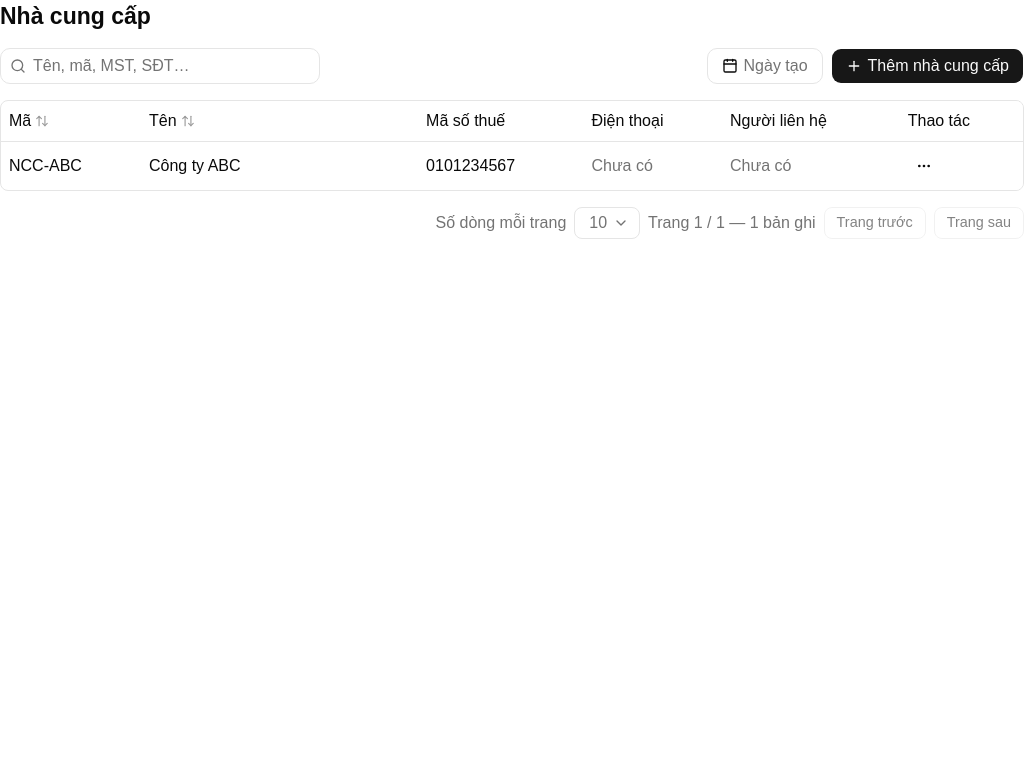
Test: SuppliersPage › bấm Thêm mở sheet; bấm Xoá mở hộp xoá
Click the button "Thêm nhà cung cấp" at (927, 66), box top-left (831, 48), bottom-right (1023, 84)
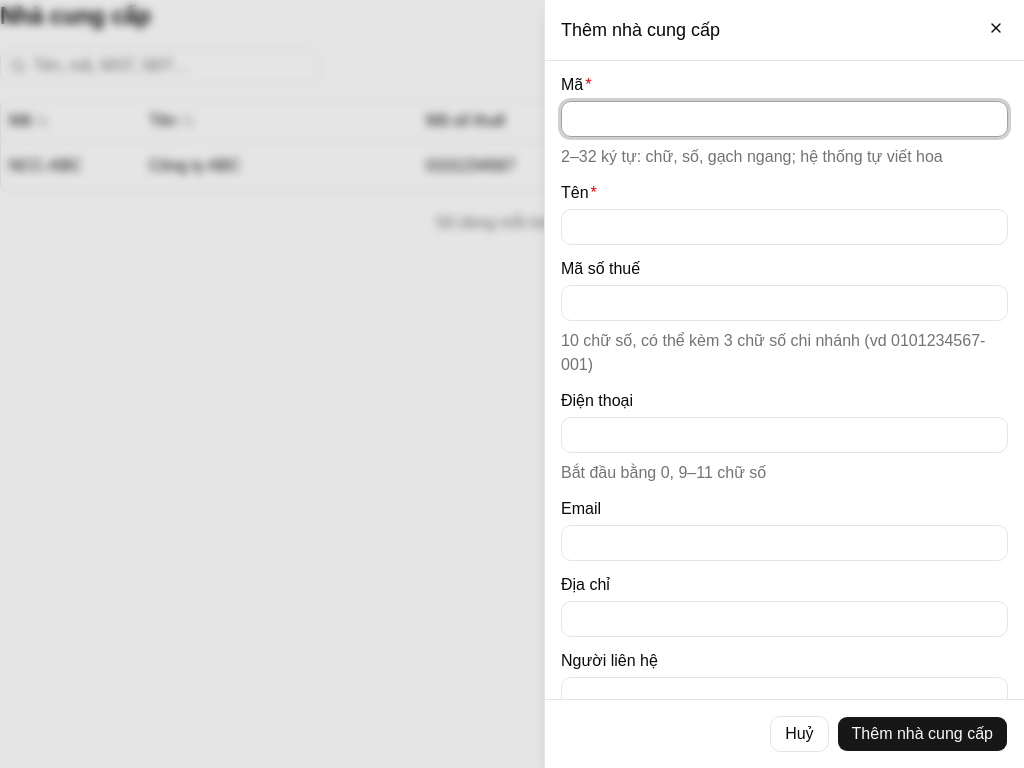
Now the dialog is shown, box top-left (544, 0), bottom-right (1023, 767)
Press Escape
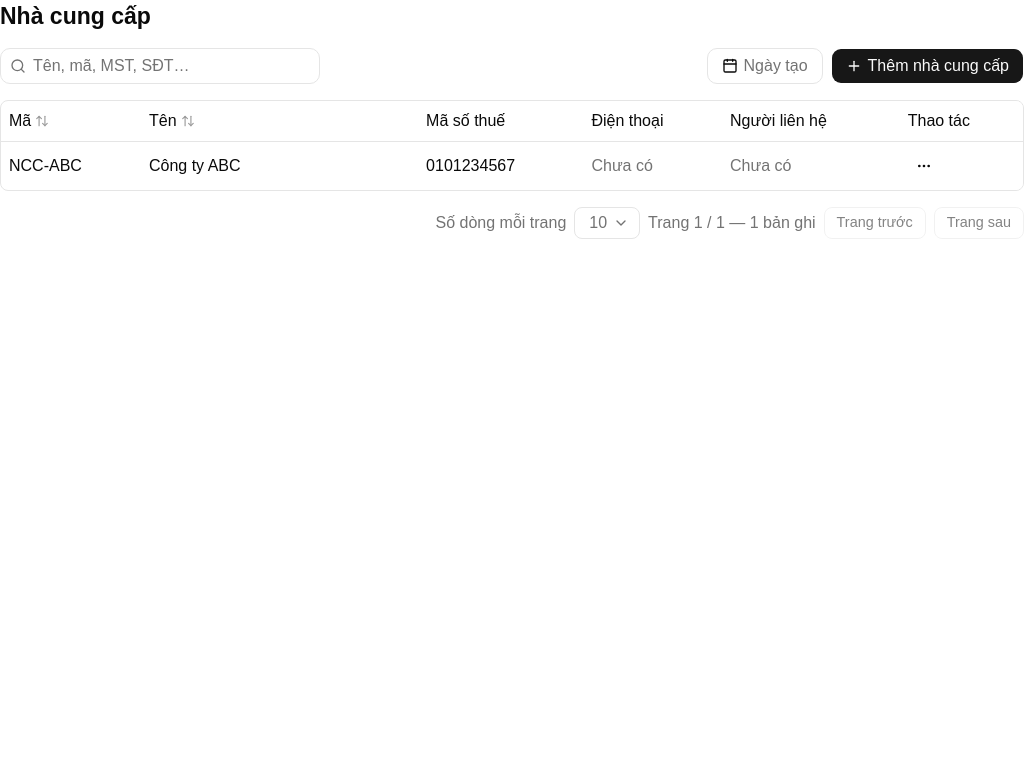
Now the dialog is gone
Click the button named "Thao tác với Công ty ABC" at (924, 166), box top-left (908, 150), bottom-right (940, 182)
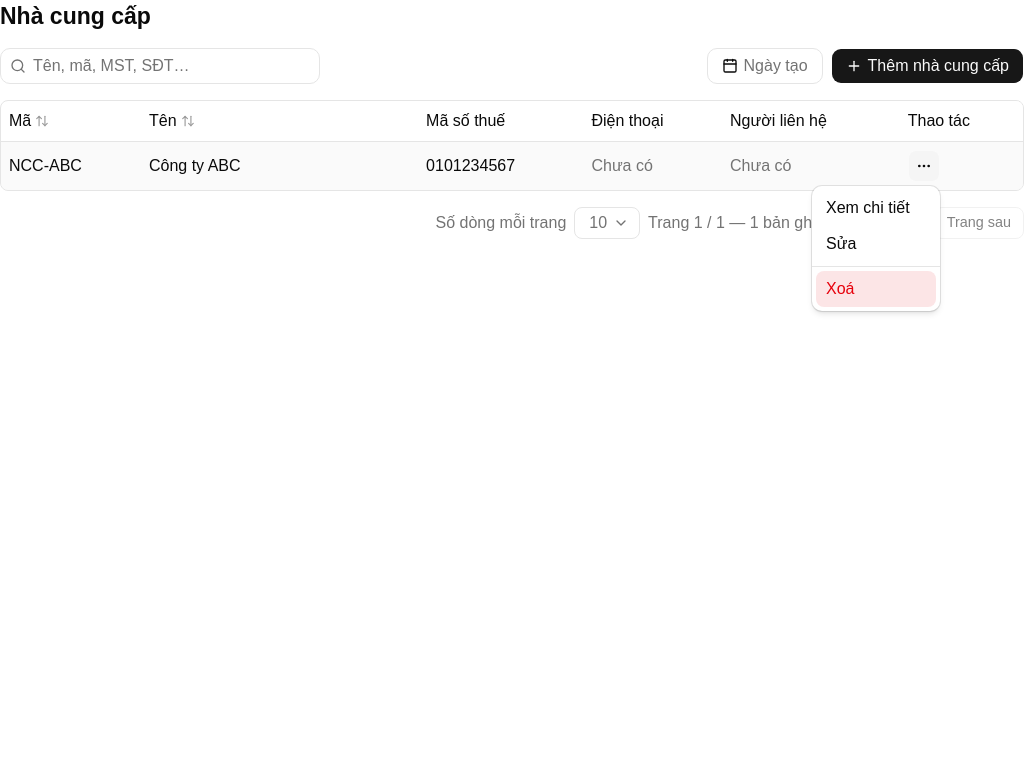
Click the menu item "Xoá" at (876, 289), box top-left (816, 271), bottom-right (936, 307)
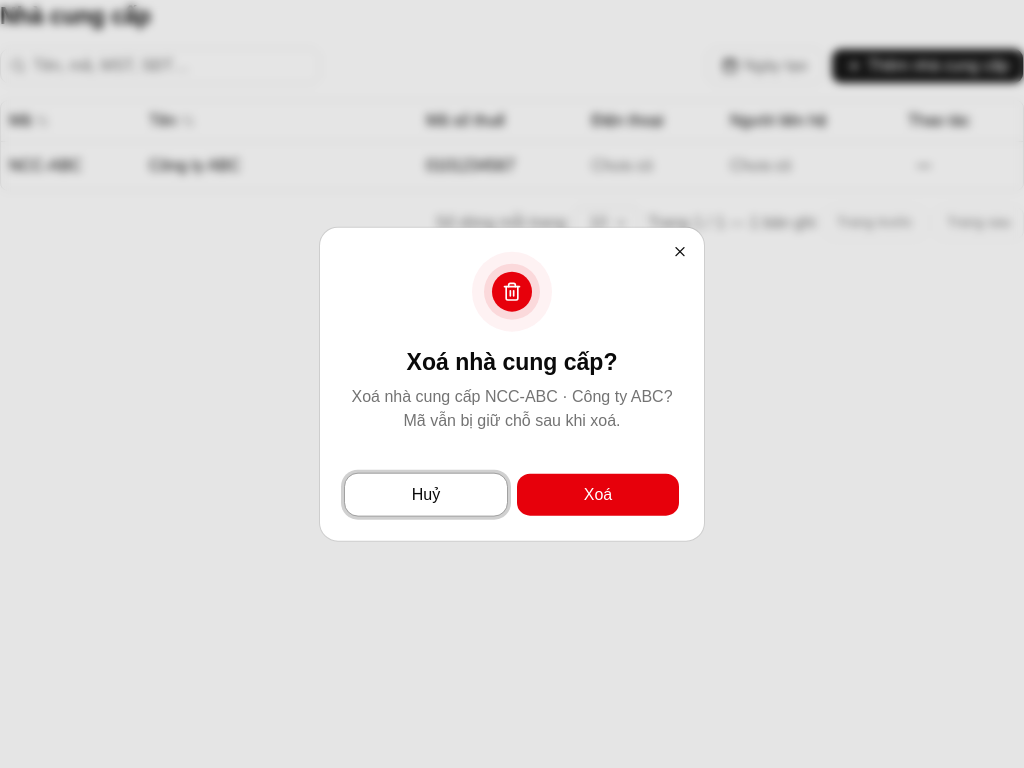
Now the dialog shows "Xoá nhà cung cấp?", box top-left (407, 349), bottom-right (618, 375)
